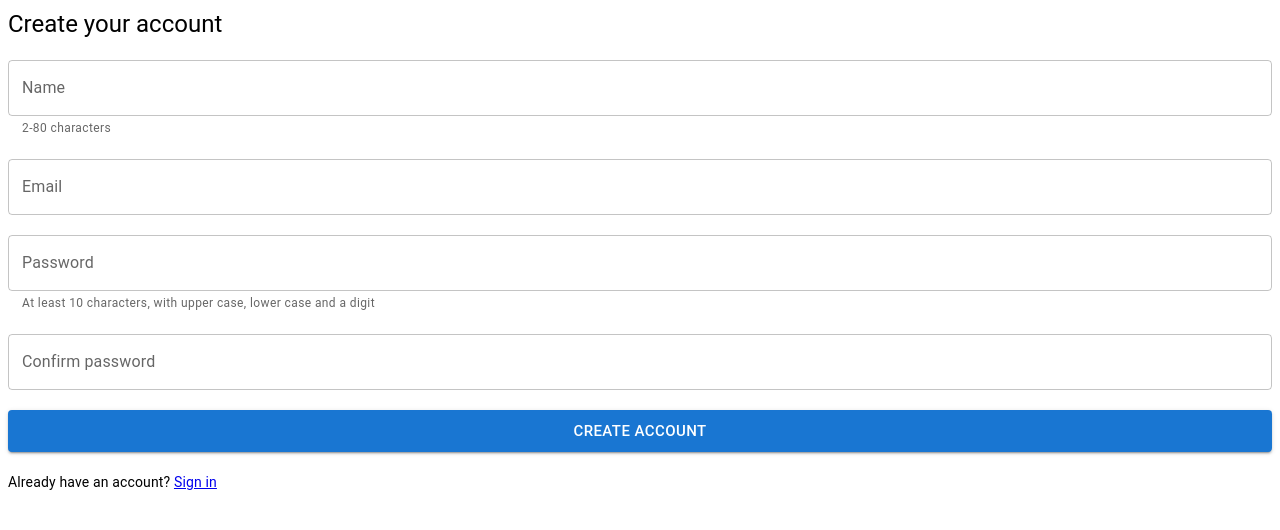
Test case: RegisterForm › blocks submission when the passwords differ
This screenshot has width=1280, height=530.
Type "Ada Lovelace" into the field labelled "Name". click: (640,88)
box: [8, 60, 1272, 116]
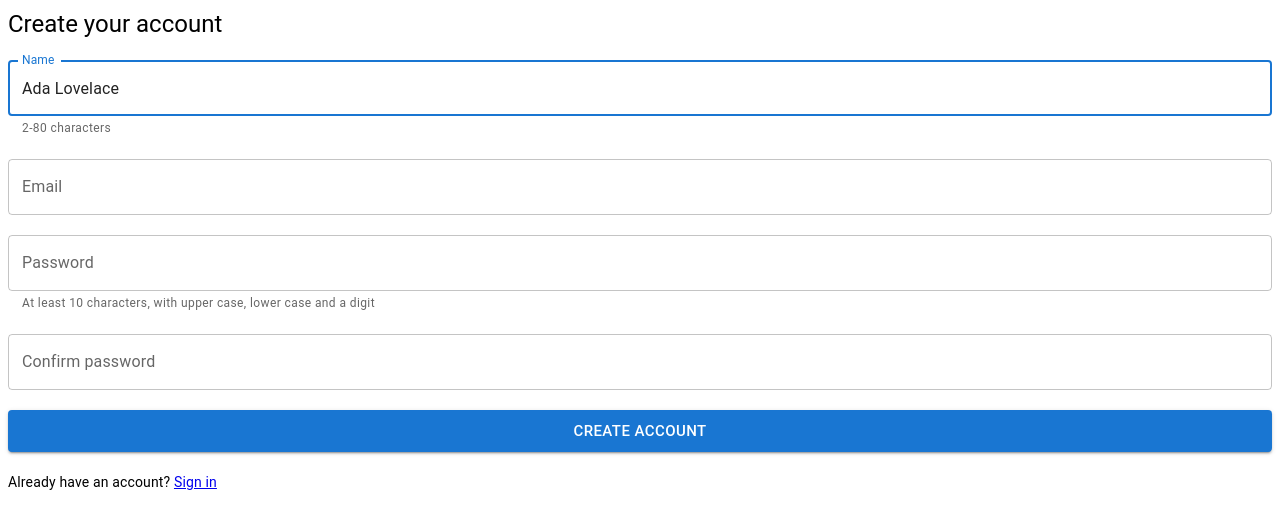
Type "ada@example.com" into the field labelled "Email". click: (640,187)
box: [8, 159, 1272, 215]
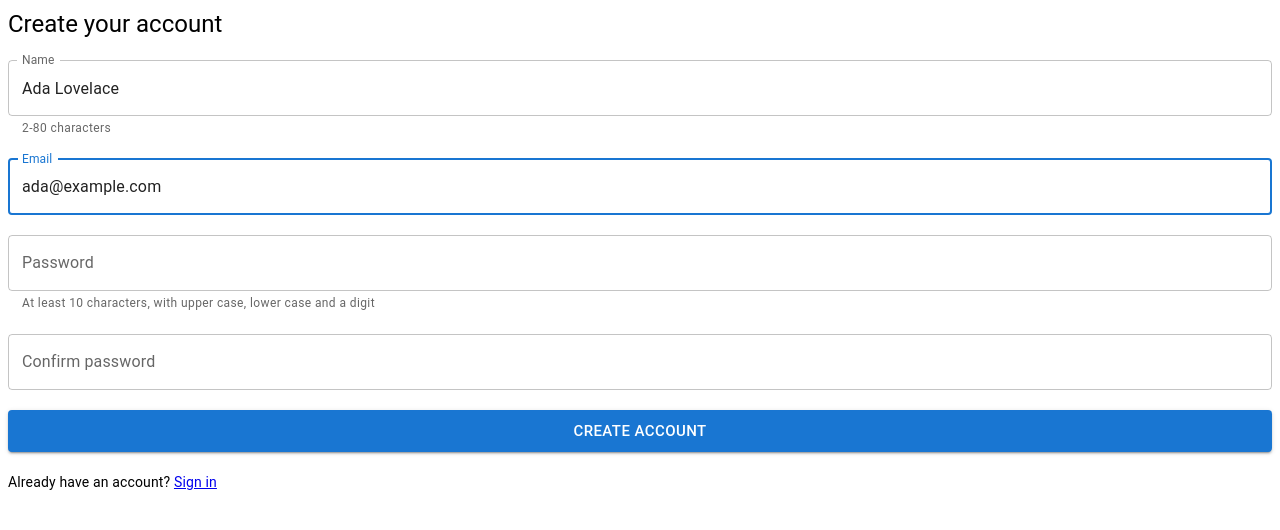
Type "Str0ngPassword" into the password field labelled "Password". click: (640,263)
box: [8, 235, 1272, 291]
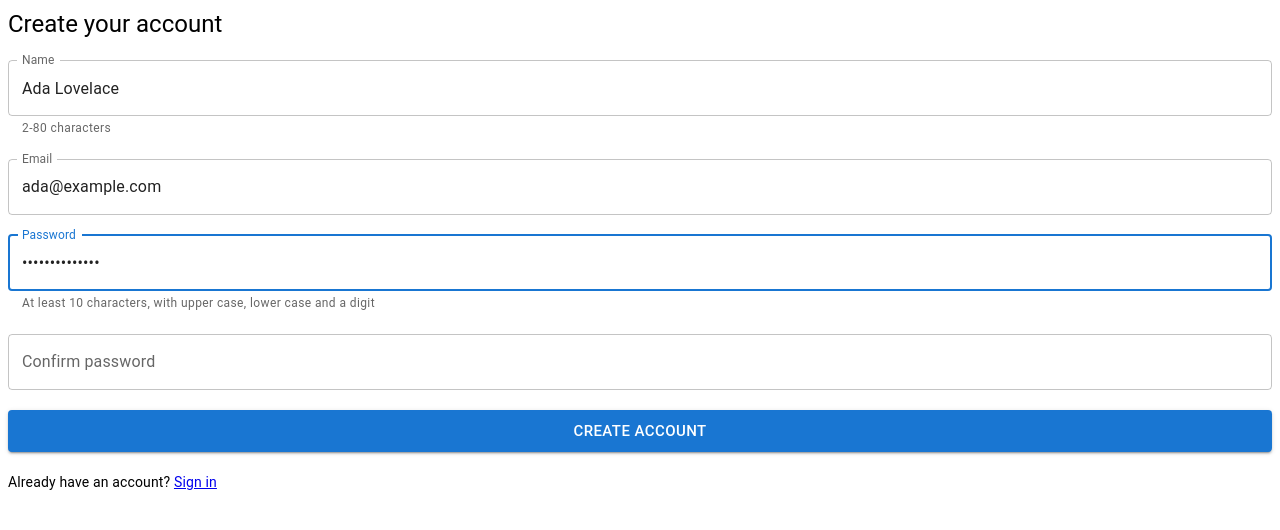
Type "Str0ngPassword" into the password field labelled "Confirm password". click: (640,362)
box: [8, 334, 1272, 390]
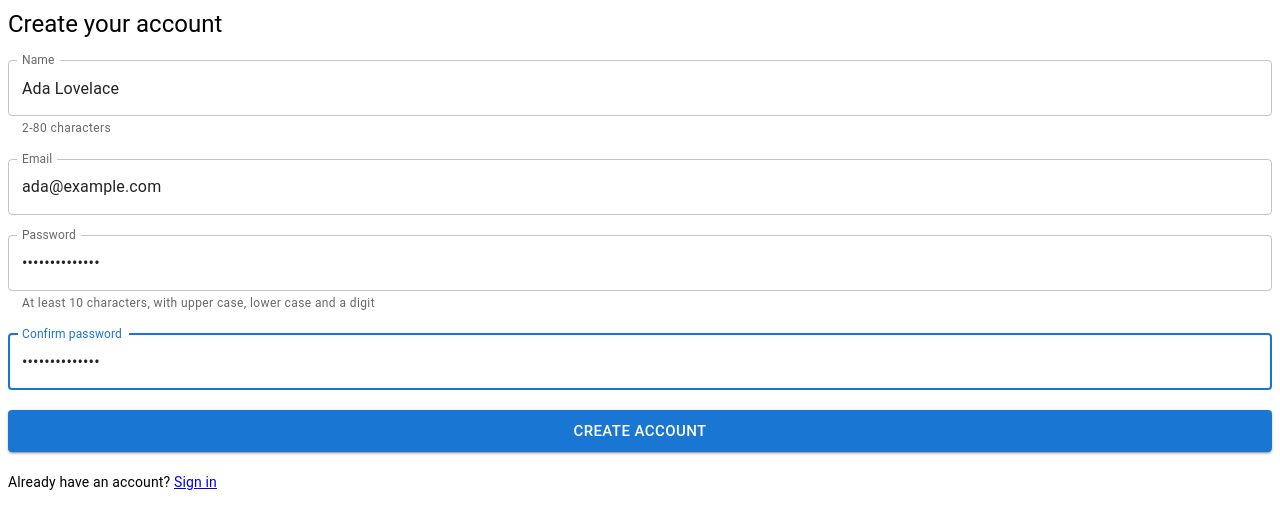
Type "Different1X" into the password field labelled "Confirm password". click: (640,362)
box: [8, 334, 1272, 390]
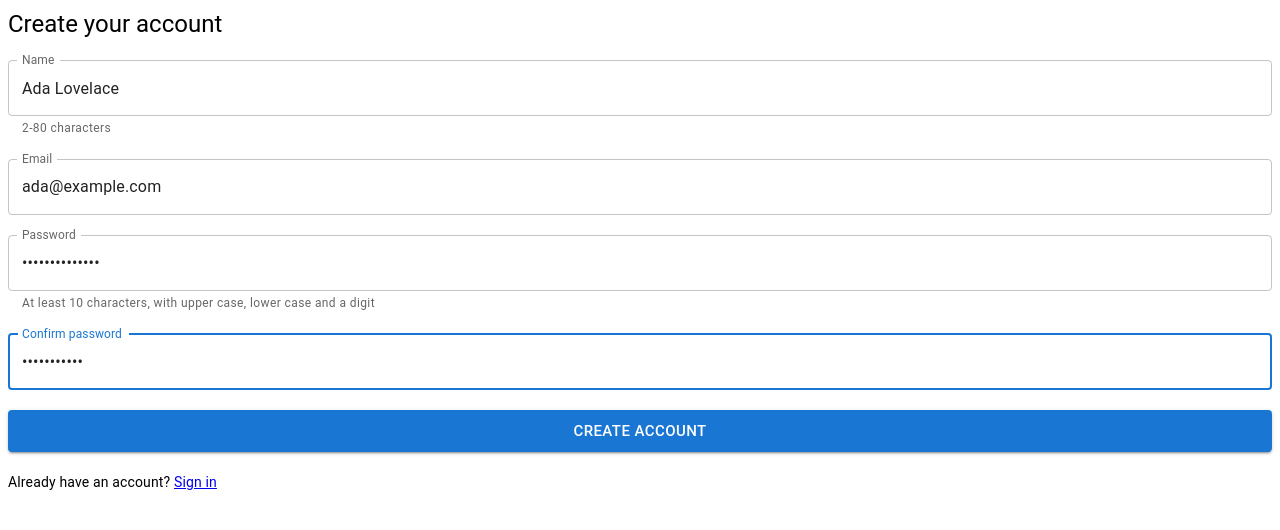
Click the button "Create account". click: (640,431)
box: [8, 410, 1272, 452]
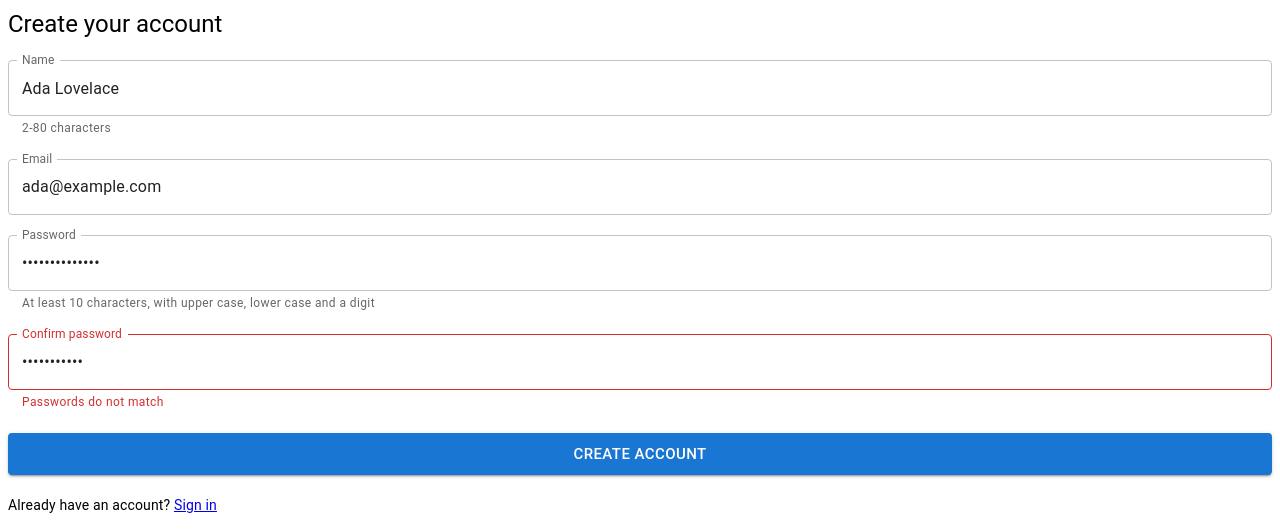
Expected: the text "Passwords do not match" is shown, [22, 395, 164, 409]
